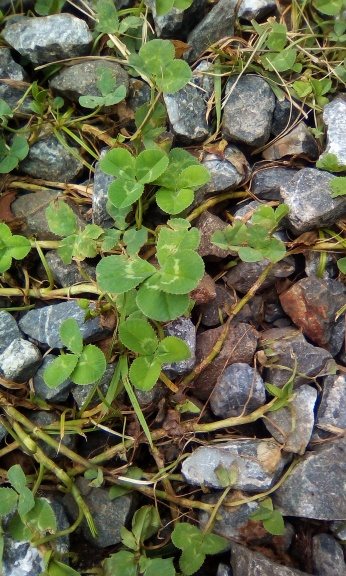4leaf: (95, 217, 205, 322)
